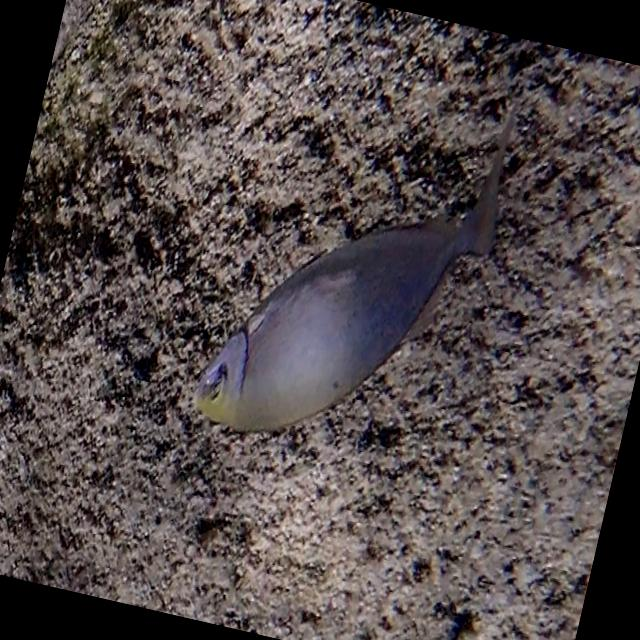Sokar Baligi: (161, 20, 546, 508)
